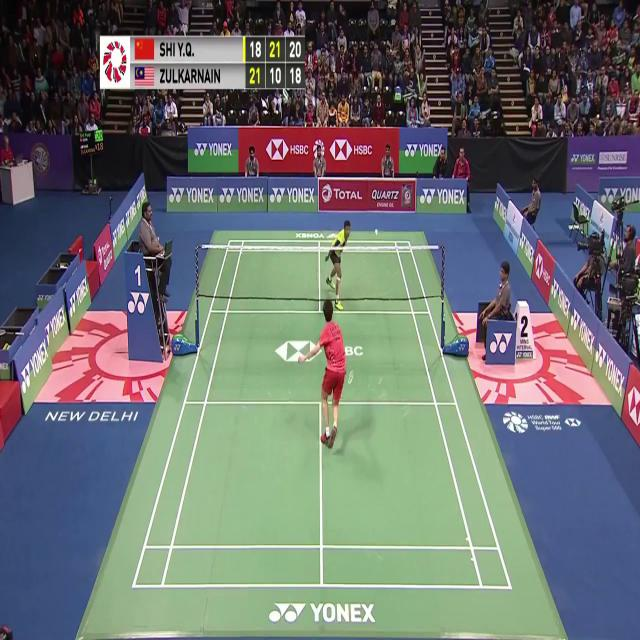Shuttlecock: (373, 225, 379, 237)
